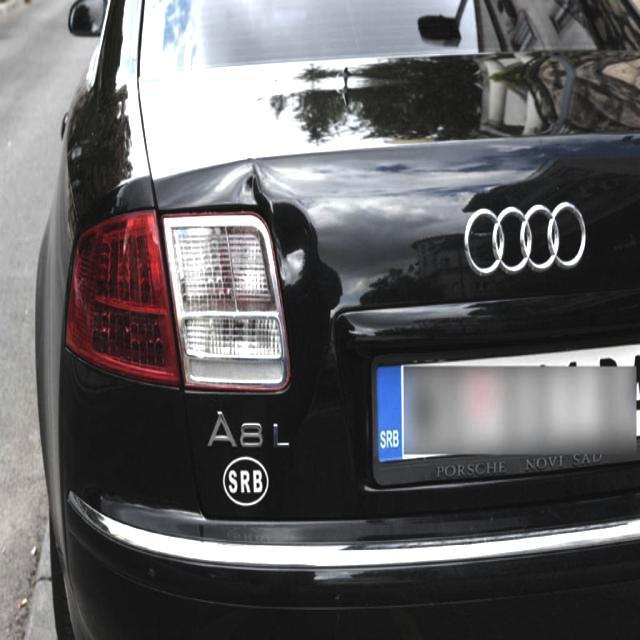minor: (230, 157, 344, 366)
